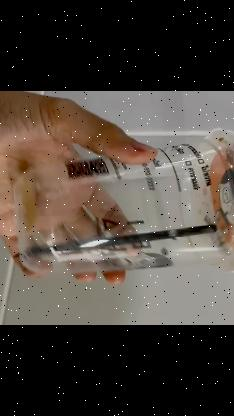Others: (13, 129, 234, 278)
